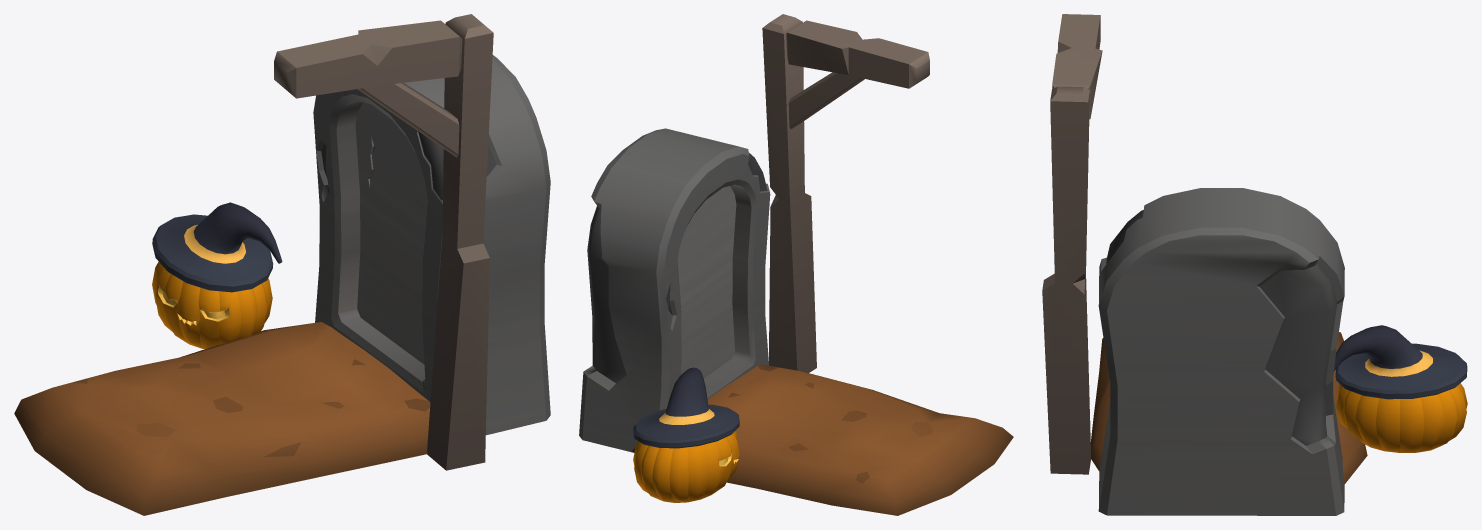
File: MainMenuObjects.fbx
3 renders of one model, left to right at view 1: azimuth 30°, elevation 25°; view 2: azimuth 150°, elevation 25°; view 3: azimuth 270°, elevation 25°, orthographic. The views are drawn at different scales.
Visible parts, largest first — view 1: Grave_9_1.001, post_lantern_Cube.002, Pumpkin_1.001; view 2: Grave_9_1.001, post_lantern_Cube.002, Pumpkin_1.001; view 3: Grave_9_1.001, post_lantern_Cube.002, Pumpkin_1.001.
Boxes of the visible parts, <box> form: Grave_9_1.001: <box>14,55,550,515</box>; post_lantern_Cube.002: <box>274,14,493,470</box>; Pumpkin_1.001: <box>152,202,282,348</box>; Grave_9_1.001: <box>579,128,1013,515</box>; post_lantern_Cube.002: <box>762,14,929,372</box>; Pumpkin_1.001: <box>633,367,739,502</box>; Grave_9_1.001: <box>1090,188,1367,515</box>; post_lantern_Cube.002: <box>1042,14,1102,474</box>; Pumpkin_1.001: <box>1334,325,1467,452</box>.
Bounding box in the file's own units: 340 × 330 × 334.
Materials: 3 (3 with a texture image).
